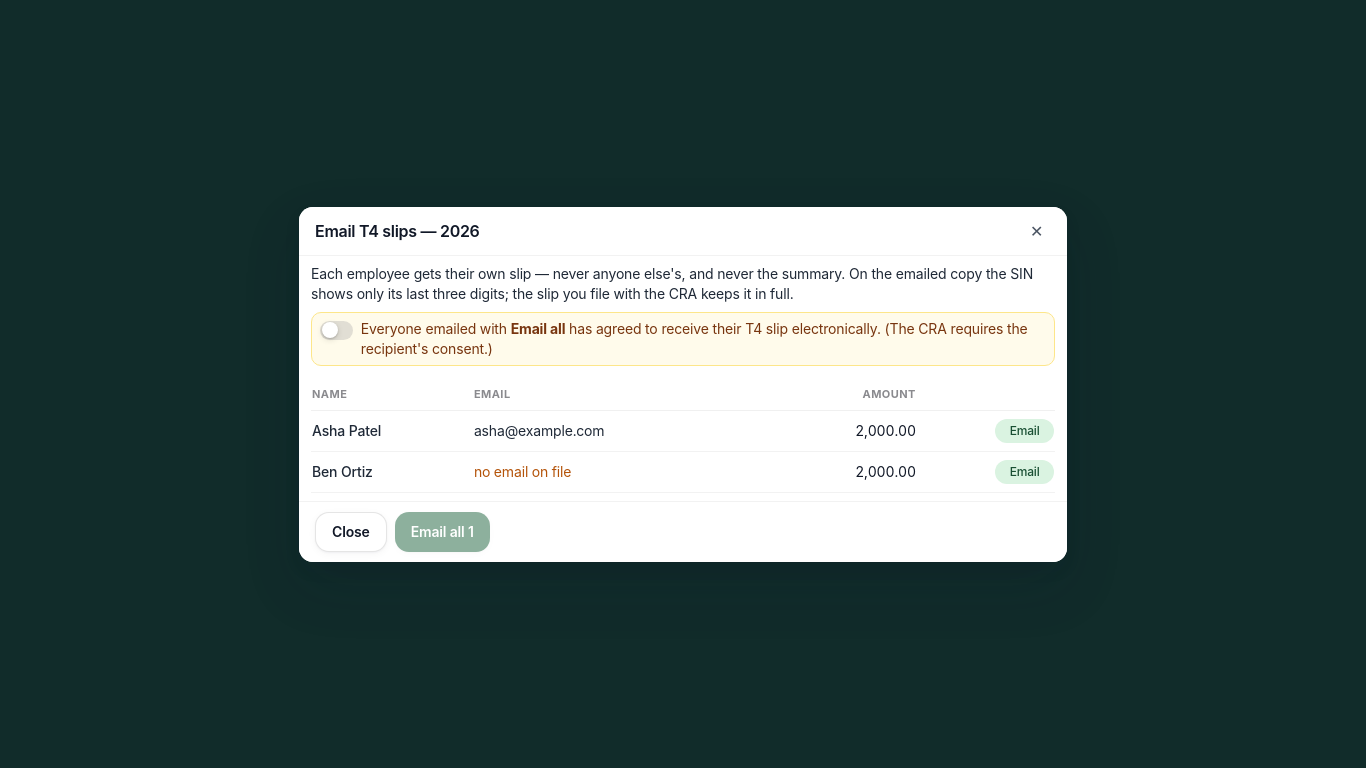
Test: emailing T4 slips › keeps Email all off until the consent box is ticked, then reports who was sent and who was skipped
Expected: the text "no email on file" is shown, [474,462,571,480]
Expected: the button "Email all 1" is disabled, [395,512,490,552]
Step 1. Click the checkbox → click(336, 330), box [320,320,353,340]
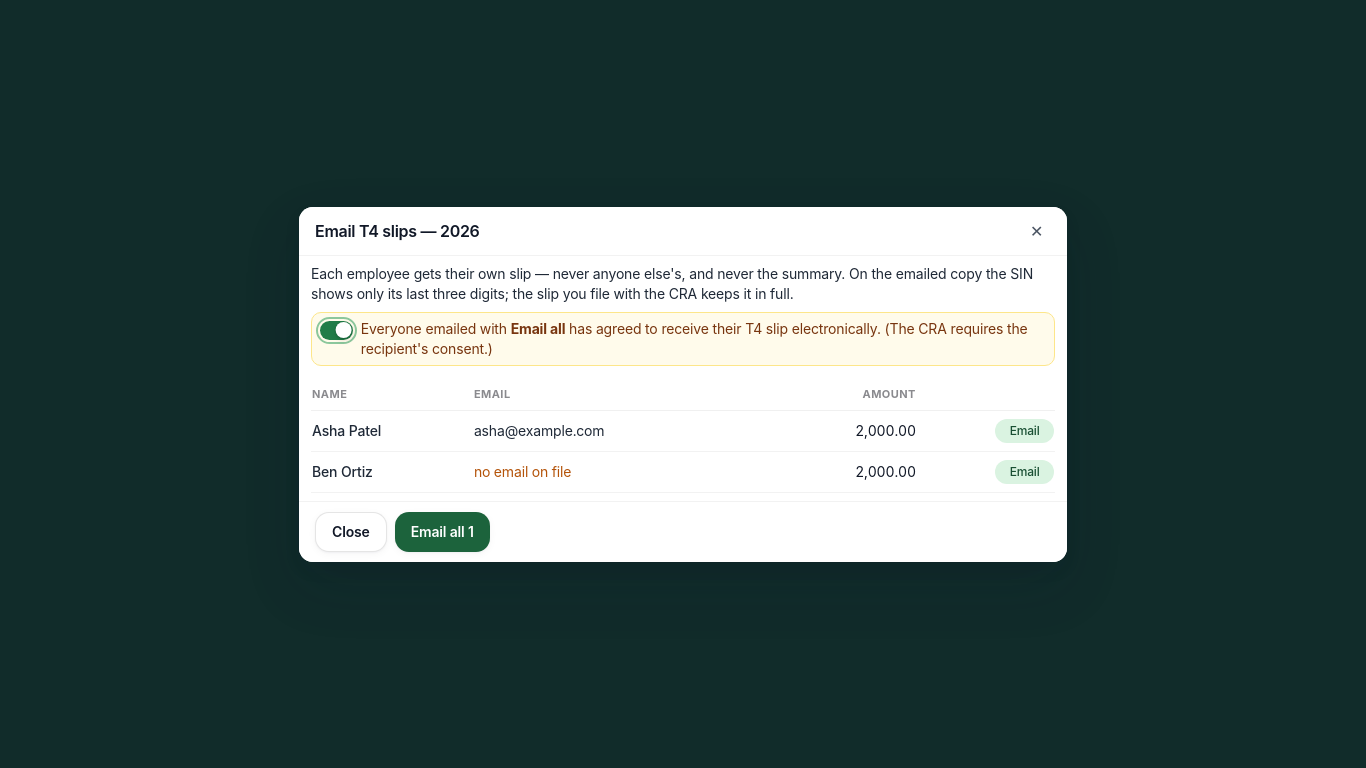
Step 2. Click the button "Email all 1" → click(442, 532), box [395,512,490,552]
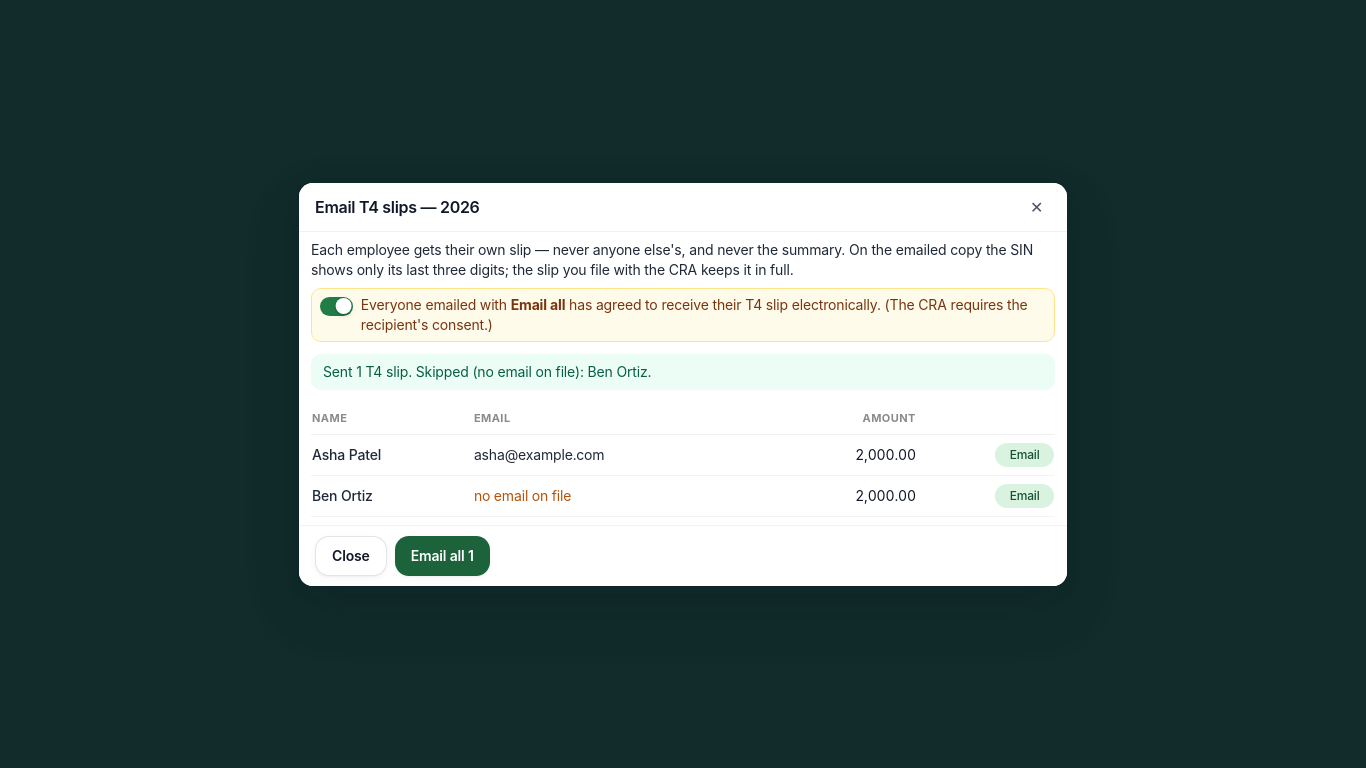
Now the text "Sent 1 T4 slip. Skipped (no email on file): Ben Ortiz." is shown, box [311,354,1055,390]
